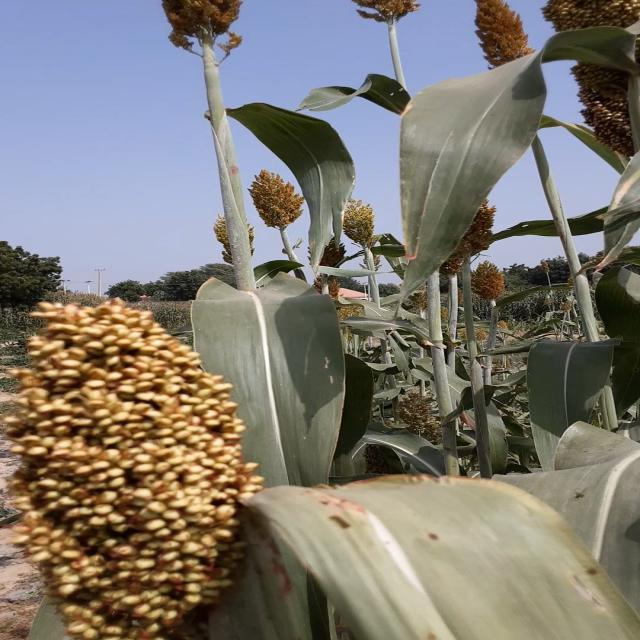UnripeSorghum: (0, 289, 266, 634)
